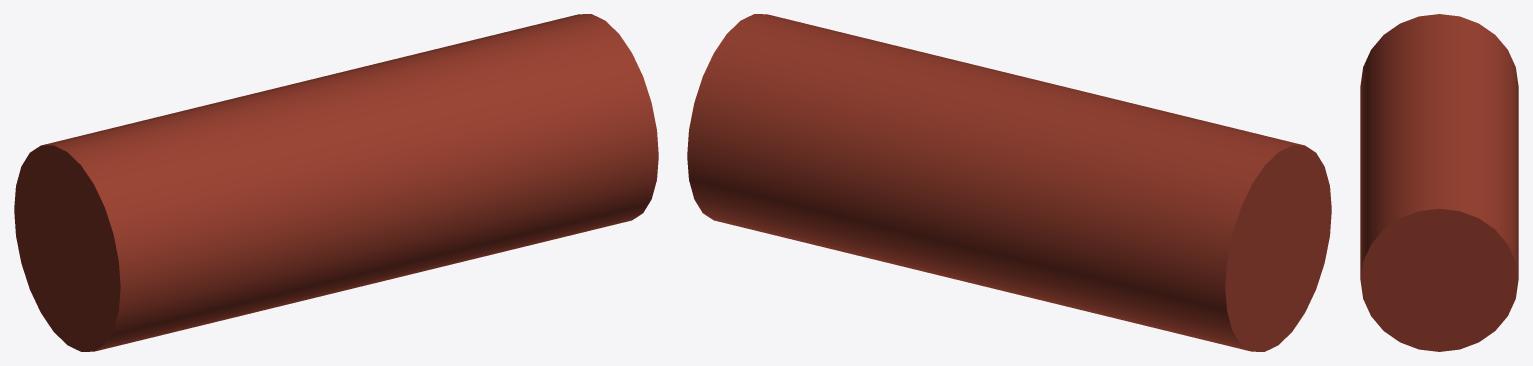
Rendered from original-4.obj.
The picture shows the model from 3 angles, left to right: view 1: azimuth 30°, elevation 25°; view 2: azimuth 150°, elevation 25°; view 3: azimuth 270°, elevation 25°; orthographic projection. The views are drawn at different scales.
Parts seen in each view (by area): view 1: Group4/mesh6/mesh6-geometry#mesh6-geometry; view 2: Group4/mesh6/mesh6-geometry#mesh6-geometry; view 3: Group4/mesh6/mesh6-geometry#mesh6-geometry.
Part boxes in pixels (x1,y1,x2,y2): Group4/mesh6/mesh6-geometry#mesh6-geometry: [14, 14, 658, 351]; Group4/mesh6/mesh6-geometry#mesh6-geometry: [687, 14, 1331, 351]; Group4/mesh6/mesh6-geometry#mesh6-geometry: [1360, 14, 1518, 351].
Size of the model in its own units: 0.0654 by 0.0224 by 0.0224.
